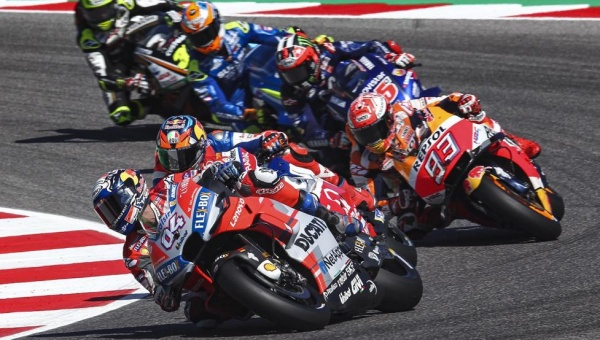helmet: (83, 164, 150, 230), (343, 94, 401, 154), (148, 114, 201, 168), (275, 31, 320, 89), (179, 1, 226, 56)
